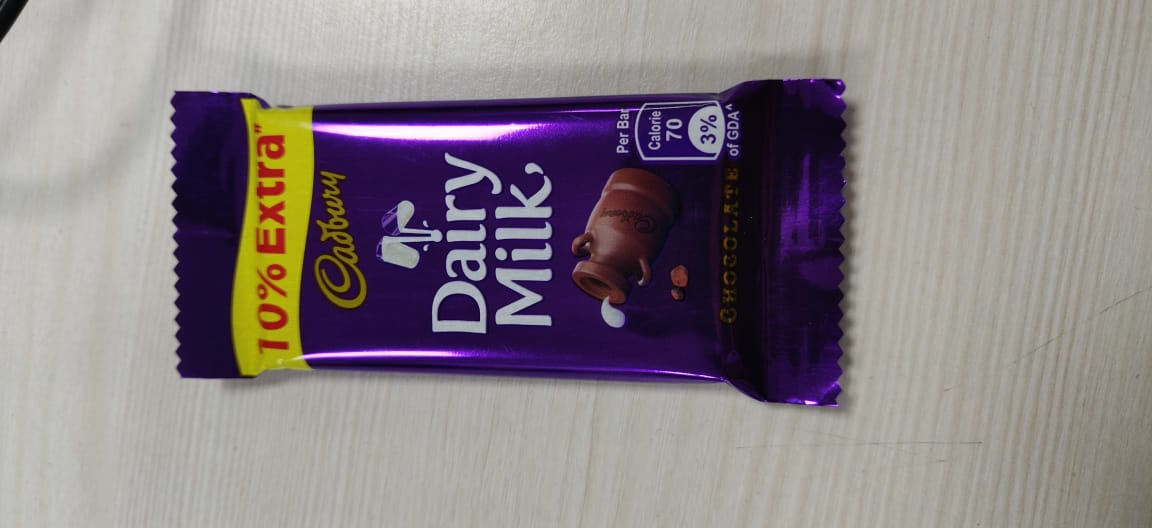dairy milk: (154, 72, 877, 422)
